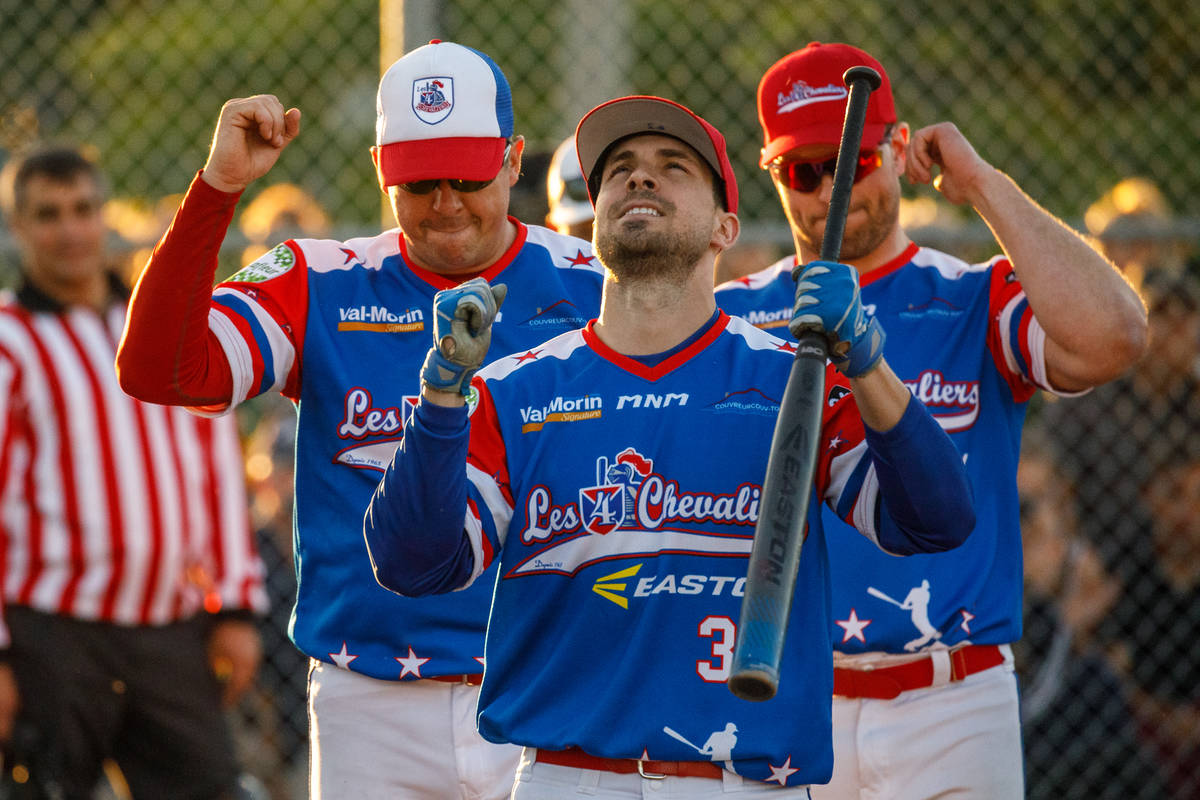without_mask: (606, 143, 710, 256), (392, 159, 501, 262), (779, 145, 884, 244)
